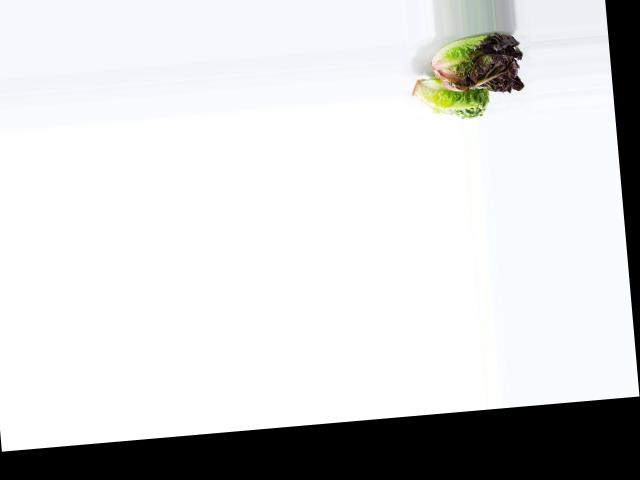lettuce: (407, 70, 492, 124)
